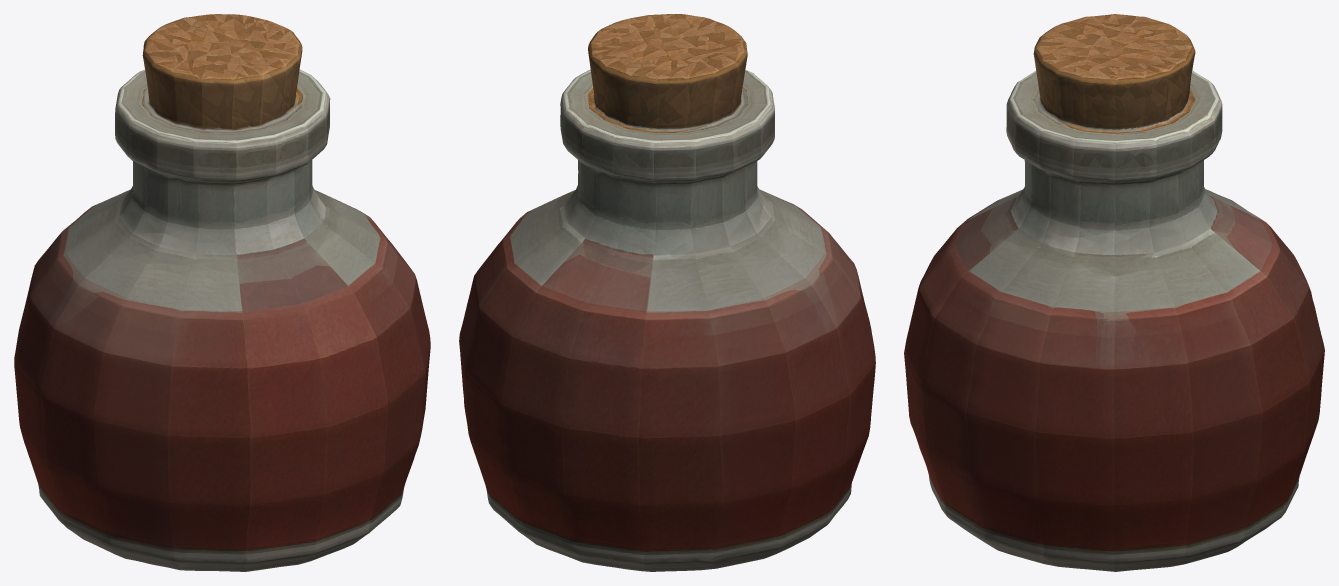
The model's file is Prop_Bottle_Red.fbx.
3 renders of one model, left to right at view 1: azimuth 30°, elevation 25°; view 2: azimuth 150°, elevation 25°; view 3: azimuth 270°, elevation 25°, orthographic.
Parts seen in each view (by area): view 1: texture_mapping; view 2: texture_mapping; view 3: texture_mapping.
Part boxes in pixels (x1,y1,x2,y2): texture_mapping: [14, 14, 430, 571]; texture_mapping: [459, 14, 875, 571]; texture_mapping: [904, 14, 1324, 571].
Size of the model in its own units: 0.8268 by 0.8284 by 0.9944.
1 material, 1 textured.
